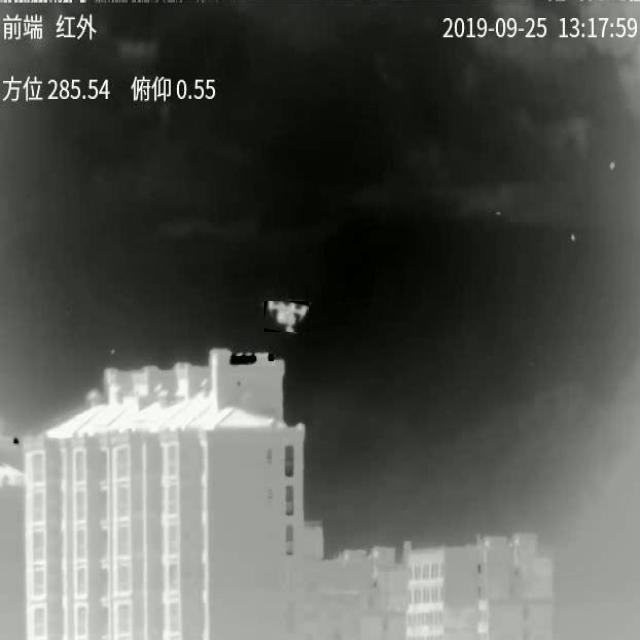drone: (267, 301, 309, 332)
